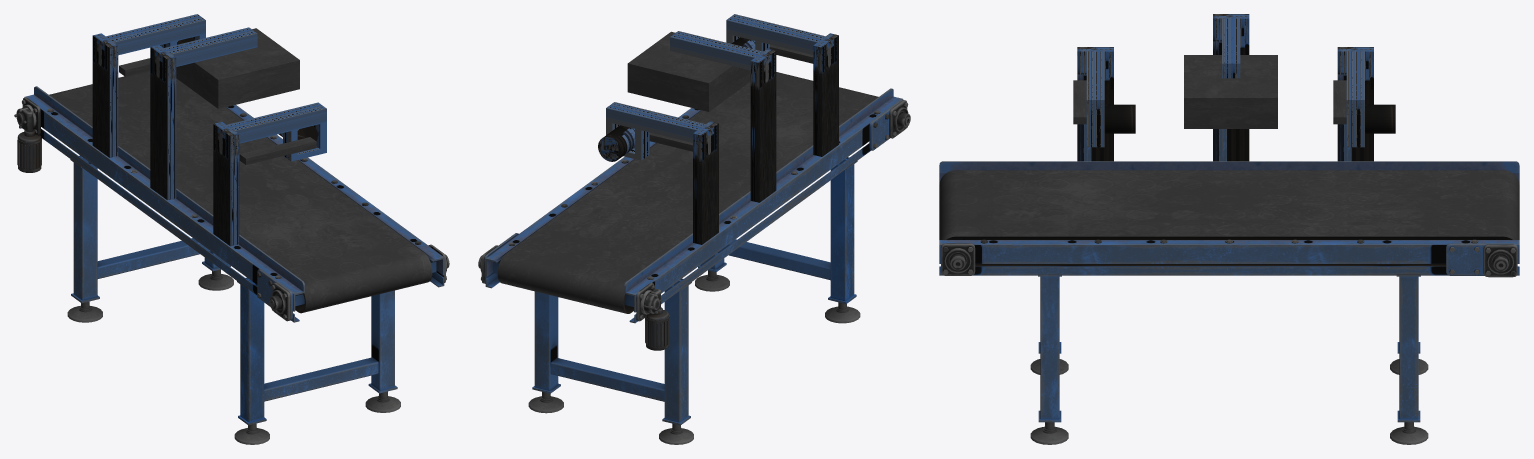
3 renders of one model, left to right at view 1: azimuth 30°, elevation 25°; view 2: azimuth 150°, elevation 25°; view 3: azimuth 270°, elevation 25°, orthographic. The views are drawn at different scales.
Visible parts, largest first — view 1: Conveyor01Belt, Conveyor01Legs, Conveyor01Frame01, FirstPosition, SecondPosition, Cube, ThirdPosition, Conveyor01Frame02, Flapper1; view 2: Conveyor01Belt, Conveyor01Legs, Conveyor01Frame01, SecondPosition, ThirdPosition, Cube, FirstPosition, Conveyor01Frame02, Cylinder.001; view 3: Conveyor01Belt, Conveyor01Frame02, Conveyor01Legs, Cube, Conveyor01Frame01, Conveyor01Frame, FirstPosition, ThirdPosition, SecondPosition, Cylinder, Cylinder.001, Flapper1 (+1 smaller).
Part boxes in pixels (x1=…): Conveyor01Belt: x1=49, y1=70, x2=432, y2=312; Conveyor01Legs: x1=67, y1=155, x2=400, y2=444; Conveyor01Frame01: x1=14, y1=86, x2=304, y2=322; FirstPosition: x1=213, y1=102, x2=326, y2=246; SecondPosition: x1=150, y1=27, x2=257, y2=200; Cube: x1=176, y1=28, x2=299, y2=108; ThirdPosition: x1=92, y1=14, x2=205, y2=157; Conveyor01Frame02: x1=226, y1=105, x2=449, y2=287; Flapper1: x1=239, y1=137, x2=316, y2=164; Conveyor01Belt: x1=497, y1=72, x2=878, y2=313; Conveyor01Legs: x1=528, y1=157, x2=860, y2=444; Conveyor01Frame01: x1=624, y1=88, x2=910, y2=350; SecondPosition: x1=670, y1=31, x2=776, y2=202; ThirdPosition: x1=606, y1=102, x2=718, y2=244; Cube: x1=627, y1=31, x2=750, y2=111; FirstPosition: x1=726, y1=14, x2=838, y2=156; Conveyor01Frame02: x1=478, y1=108, x2=700, y2=288; Cylinder.001: x1=598, y1=125, x2=635, y2=161; Conveyor01Belt: x1=939, y1=170, x2=1519, y2=239; Conveyor01Frame02: x1=939, y1=239, x2=1519, y2=277; Conveyor01Legs: x1=1030, y1=274, x2=1428, y2=444; Cube: x1=1184, y1=55, x2=1277, y2=128; Conveyor01Frame01: x1=939, y1=161, x2=1519, y2=184; Conveyor01Frame: x1=946, y1=236, x2=1512, y2=266; FirstPosition: x1=1077, y1=47, x2=1113, y2=161; ThirdPosition: x1=1337, y1=47, x2=1373, y2=161; SecondPosition: x1=1213, y1=14, x2=1249, y2=161; Cylinder: x1=1104, y1=104, x2=1135, y2=133; Cylinder.001: x1=1365, y1=104, x2=1395, y2=133; Flapper1: x1=1073, y1=80, x2=1086, y2=124.
Bounding box in the file's own units: 94.22 × 159 × 240.
